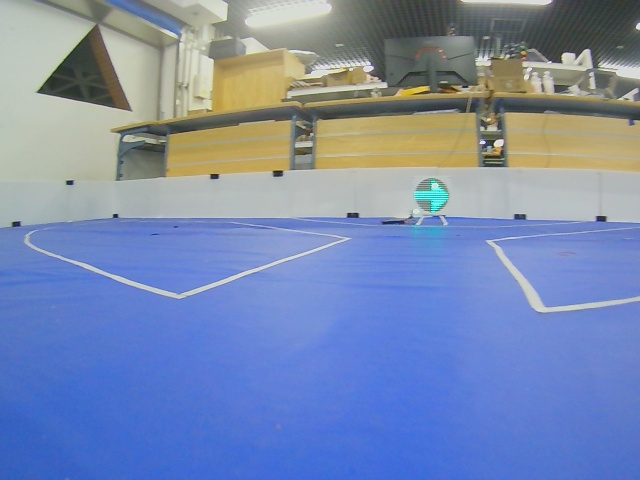right_green: (414, 178, 449, 214)
